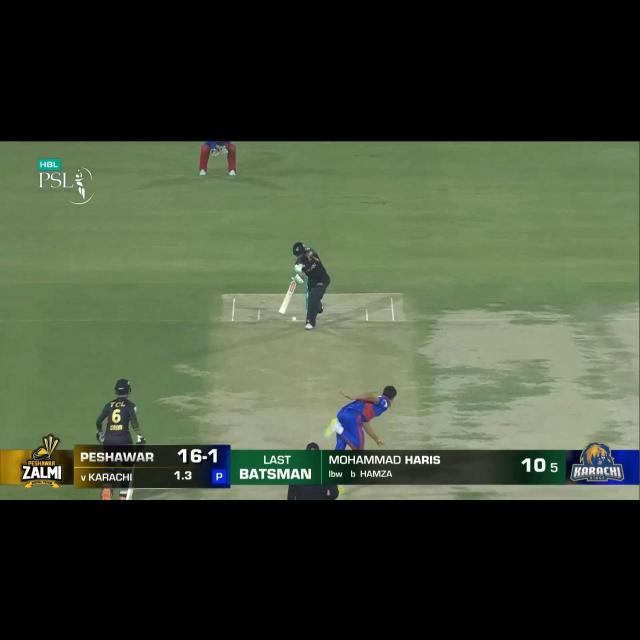bat: (278, 281, 297, 315)
toe: (123, 489, 136, 502), (278, 306, 288, 315)
